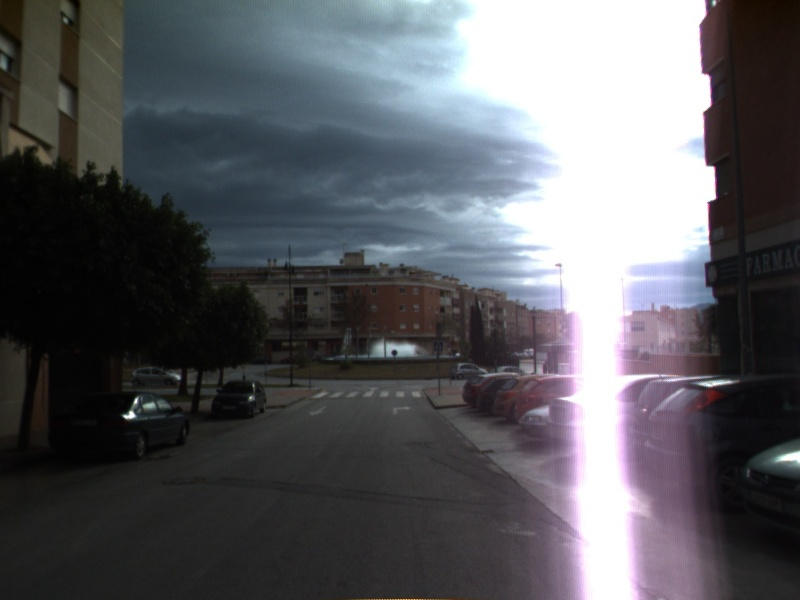RIGHT: (390, 403, 414, 417)
